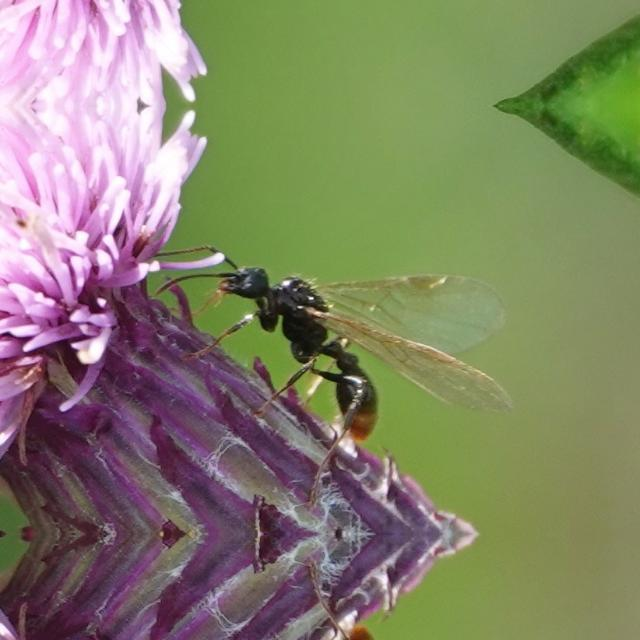Myrmica: (176, 218, 540, 467)
